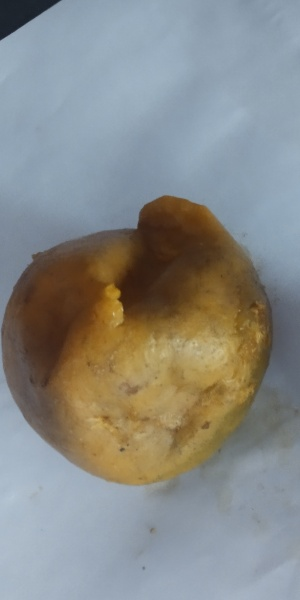BAD: (1, 198, 281, 492)
